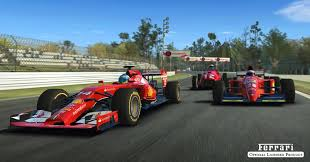FormulaOneCar: (6, 61, 182, 140), (210, 64, 303, 109)
